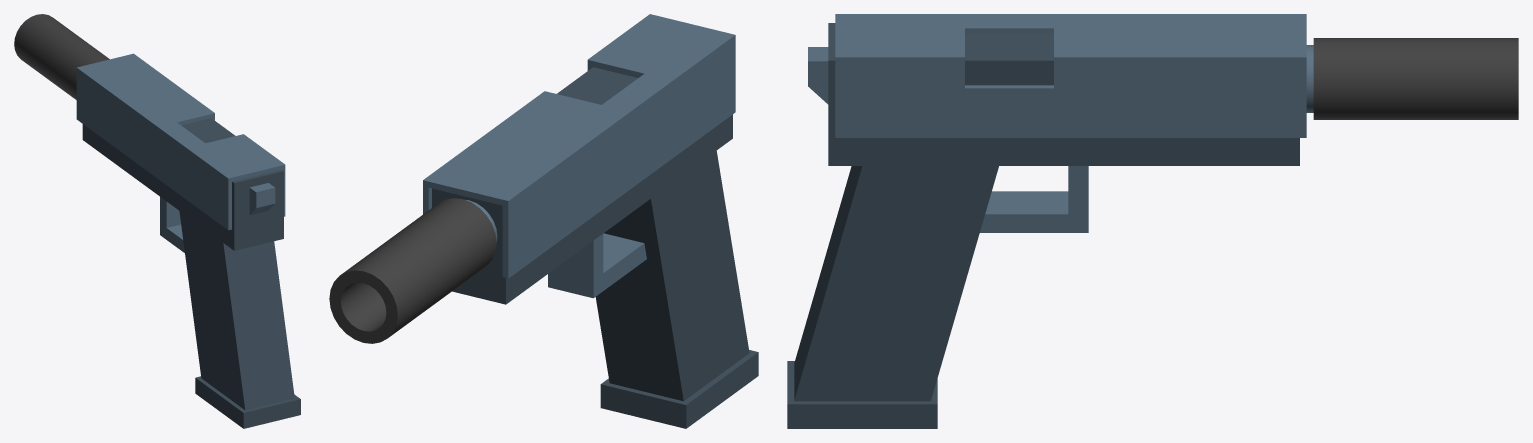
The model's file is pistolSilencer.obj.
3 renders of one model, left to right at view 1: azimuth 30°, elevation 25°; view 2: azimuth 150°, elevation 25°; view 3: azimuth 270°, elevation 25°, orthographic. The views are drawn at different scales.
Visible parts, largest first — view 1: Group; view 2: Group; view 3: Group.
Boxes of the visible parts, x1,y1,x2,y2 form: Group: [14, 14, 300, 428]; Group: [329, 14, 758, 428]; Group: [787, 14, 1518, 428].
Bounding box in the file's own units: 0.0574 × 0.2297 × 0.4096.
